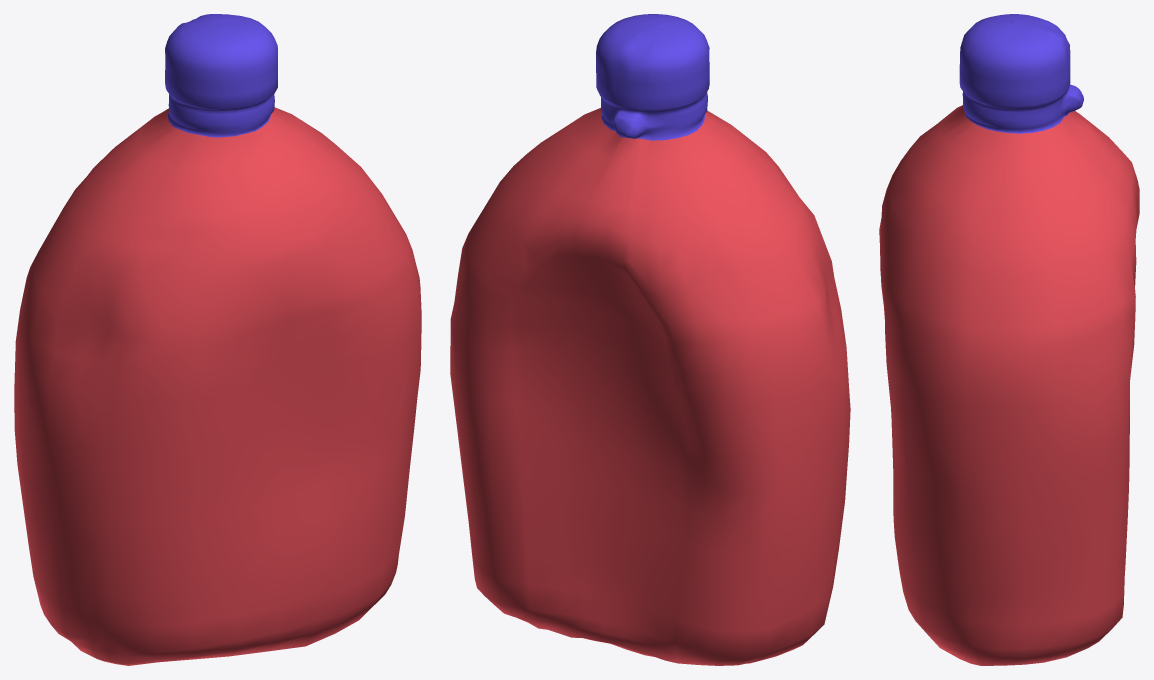
Rendered from Cantil_1.fbx.
3 views of the same model, side by side, from view 1: azimuth 30°, elevation 25°; view 2: azimuth 150°, elevation 25°; view 3: azimuth 270°, elevation 25° (orthographic). The views are drawn at different scales.
Parts seen in each view (by area): view 1: WW1 US Canteen Type B Less Worn; view 2: WW1 US Canteen Type B Less Worn; view 3: WW1 US Canteen Type B Less Worn.
Boxes of the visible parts, bbox=[...] form: WW1 US Canteen Type B Less Worn: bbox=[14, 14, 421, 665]; WW1 US Canteen Type B Less Worn: bbox=[450, 14, 850, 665]; WW1 US Canteen Type B Less Worn: bbox=[879, 14, 1139, 665].
Bounding box in the file's own units: 12.54 × 19.51 × 7.93.
